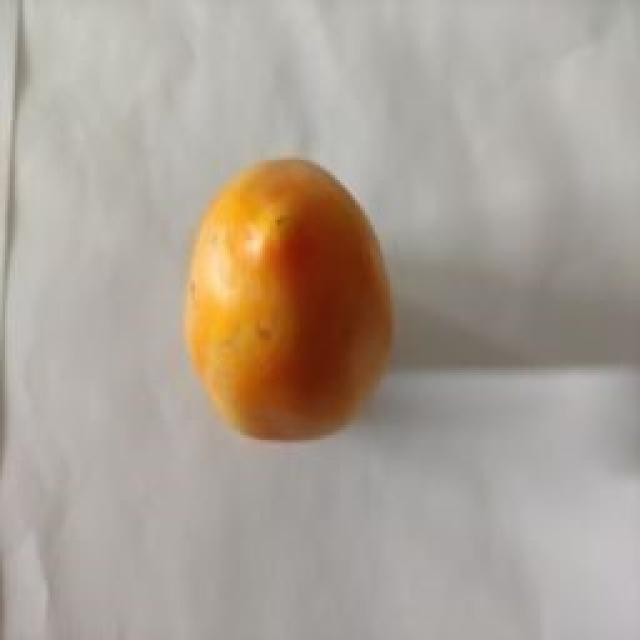unripe: (263, 145, 475, 483)
